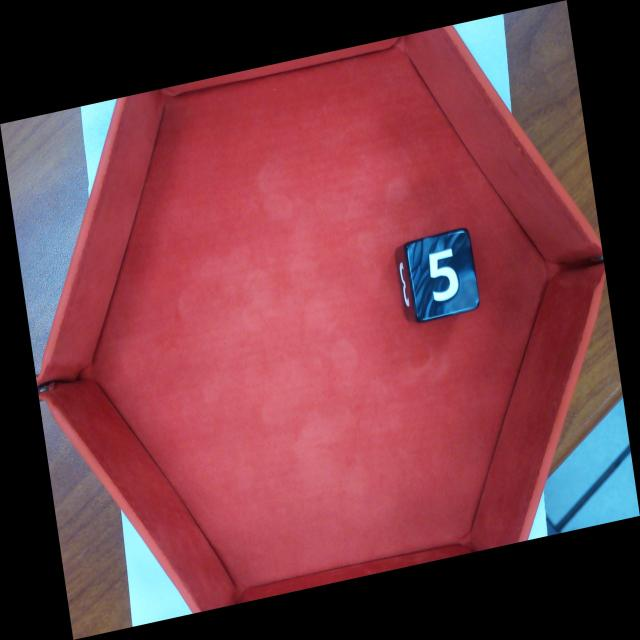dice: (406, 230, 478, 321)
